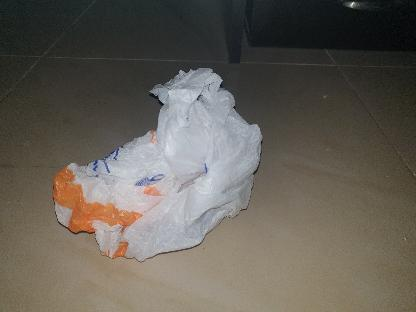Plastic Bag: (51, 67, 263, 261)
